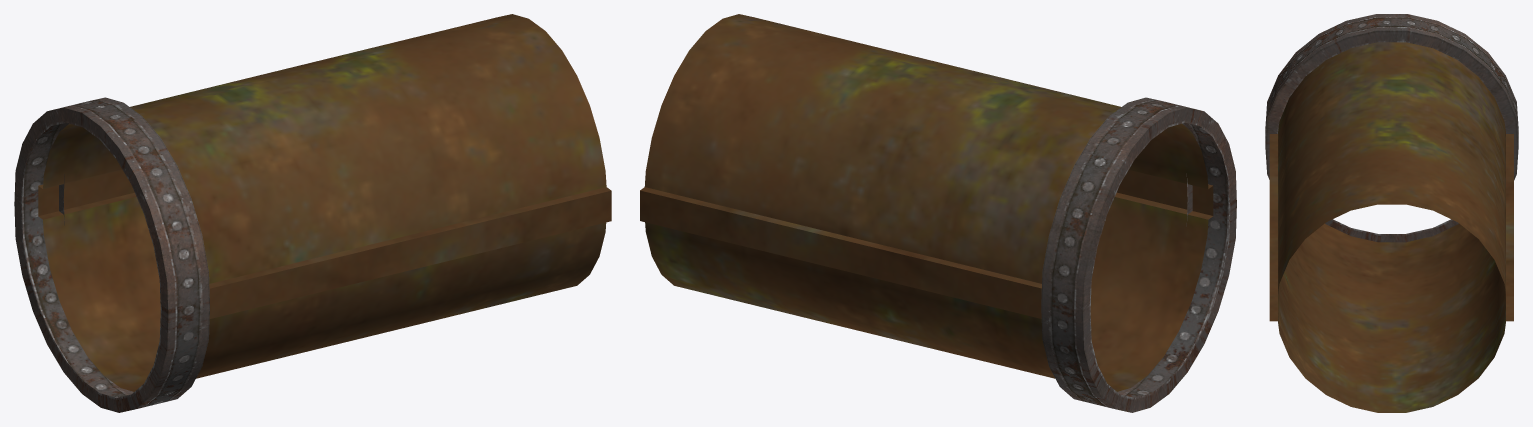
The model's file is pipe_2x1.fbx.
3 renders of one model, left to right at view 1: azimuth 30°, elevation 25°; view 2: azimuth 150°, elevation 25°; view 3: azimuth 270°, elevation 25°, orthographic. The views are drawn at different scales.
Parts seen in each view (by area): view 1: pipe_2x1; view 2: pipe_2x1; view 3: pipe_2x1.
Boxes of the visible parts, x1,y1,x2,y2 form: pipe_2x1: (14, 14, 611, 412); pipe_2x1: (640, 14, 1236, 412); pipe_2x1: (1265, 14, 1518, 412).
Size of the model in its own units: 210 by 126 by 125.
